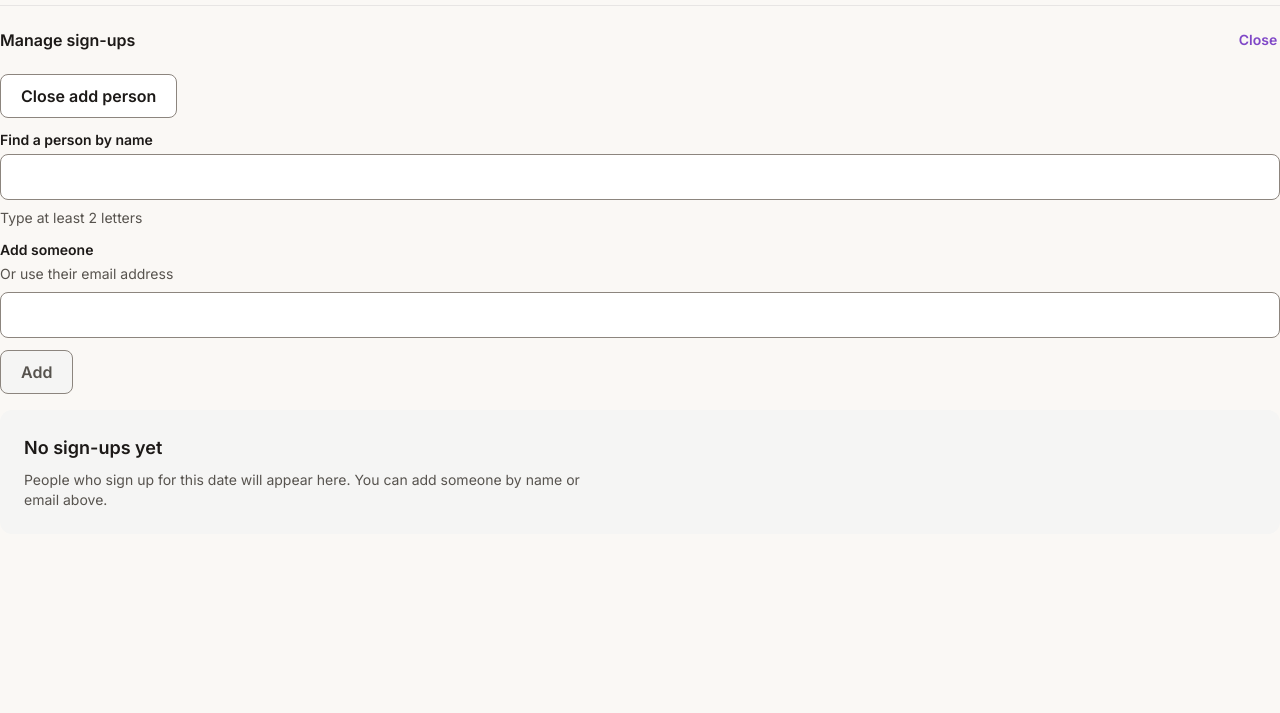
offers a teen Ask instead of direct add, and no search after role loss
Type "Pat" into the dropdown at [640, 177], box [0,154,1279,200]
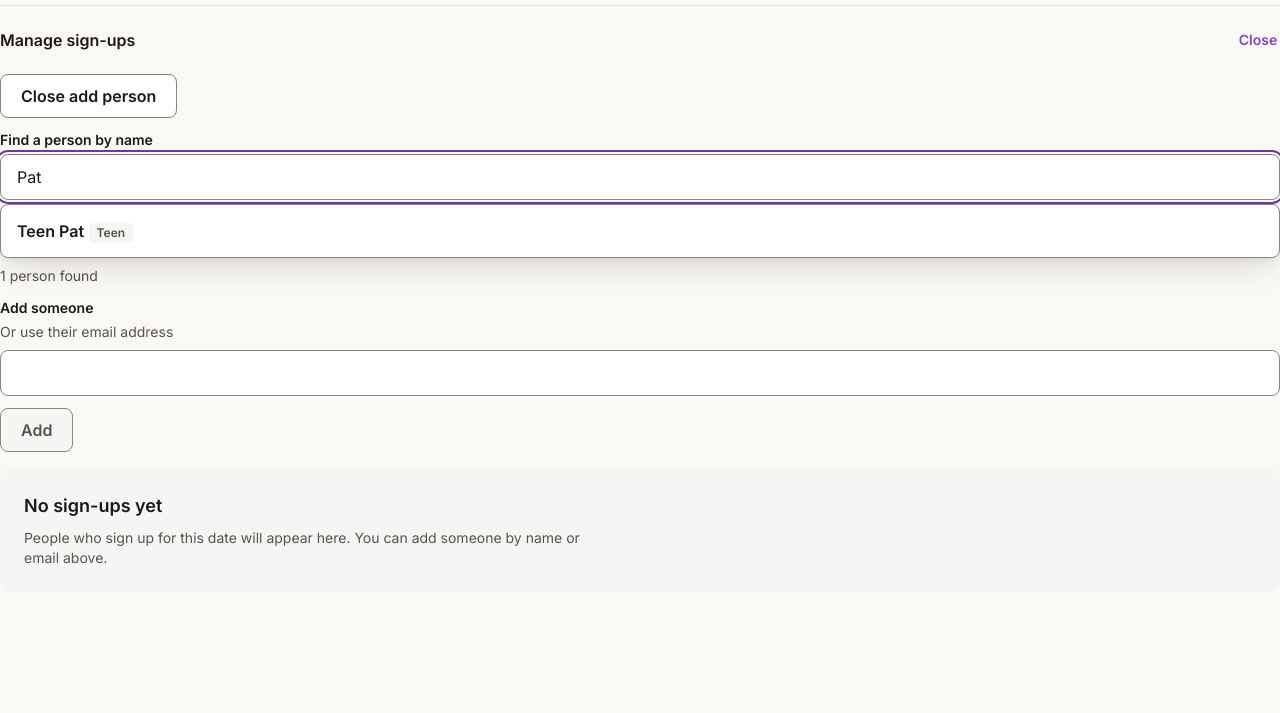
Click the option "Teen Pat Teen" at [75, 232], box [17,221,133,243]
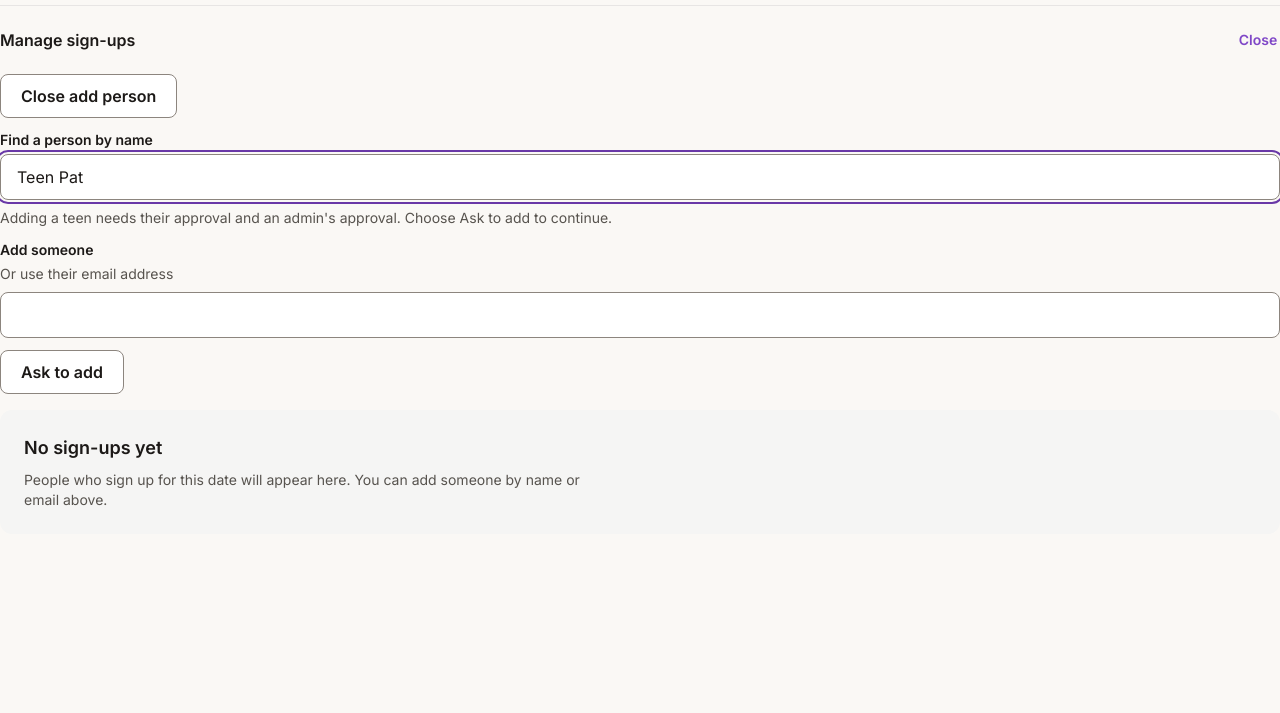
Check: the message shows "Adding a teen needs their approval", box [0,209,612,226]
Check: the button "Ask to add" is enabled
Click the button "Ask to add" at [62, 372], box [0,350,124,394]
(page scrolled)
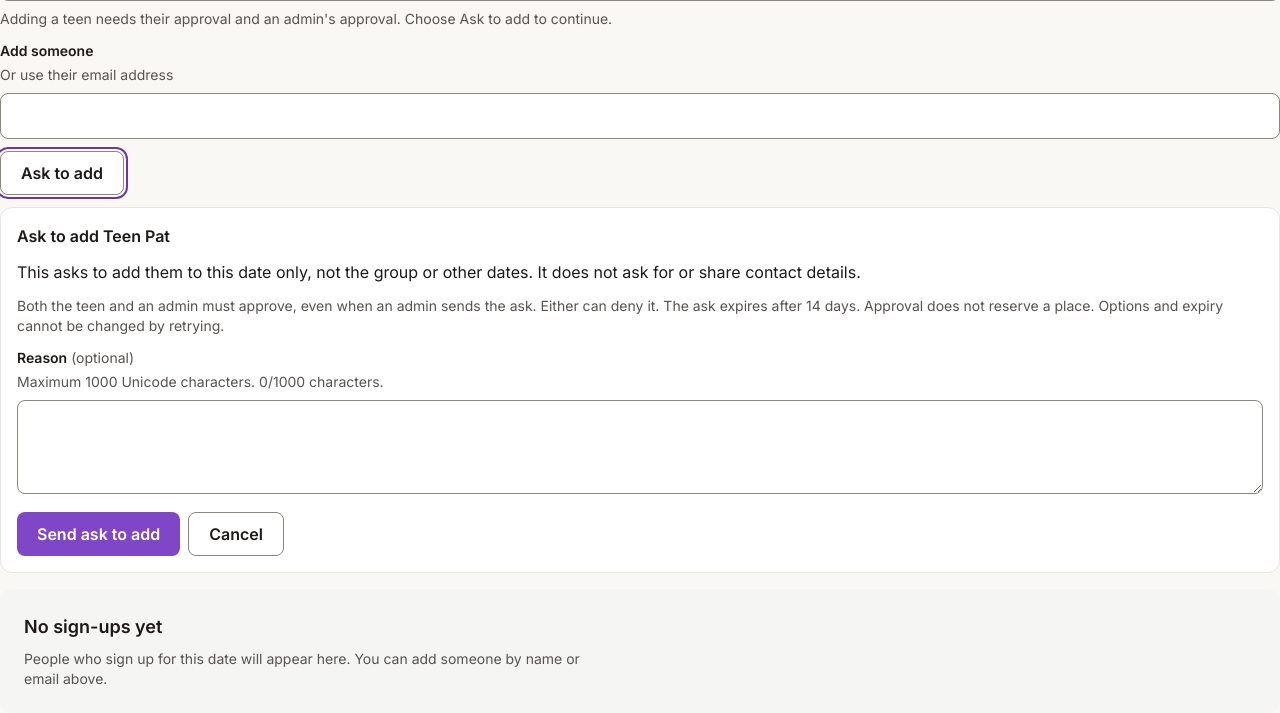
Check: the button "Send ask to add" is shown, box [17,512,180,556]
